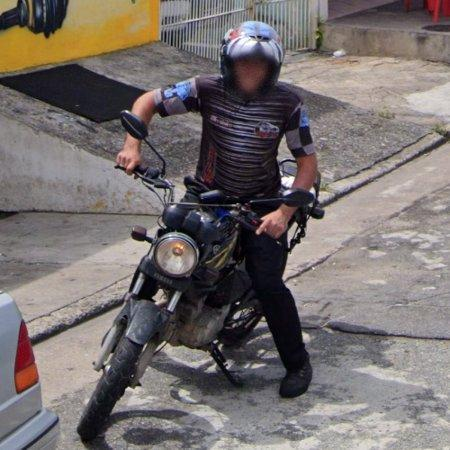motorcycles: (77, 111, 317, 442)
